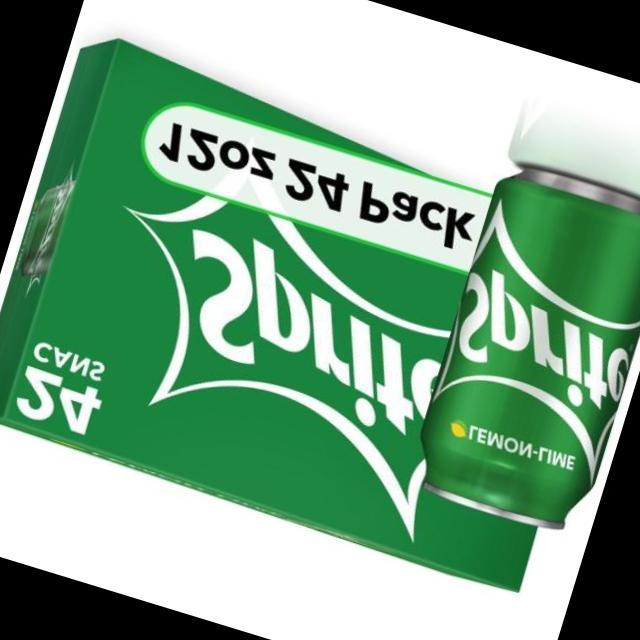Kaleng: (399, 155, 640, 542)
Kardus: (0, 62, 487, 545)
